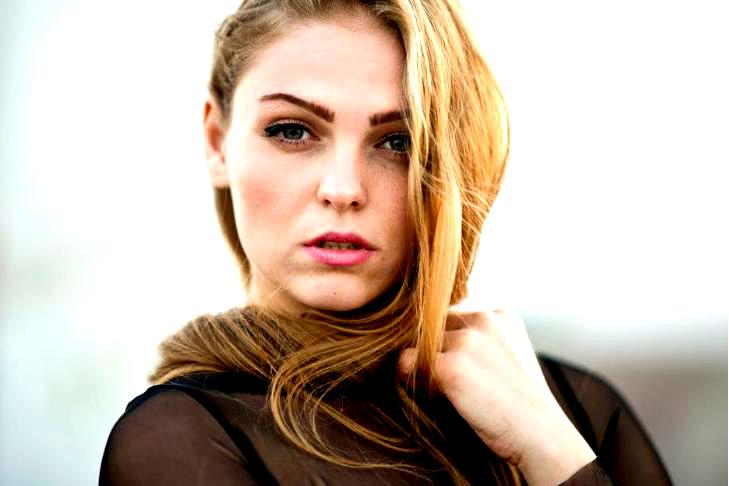face: (224, 24, 423, 311)
